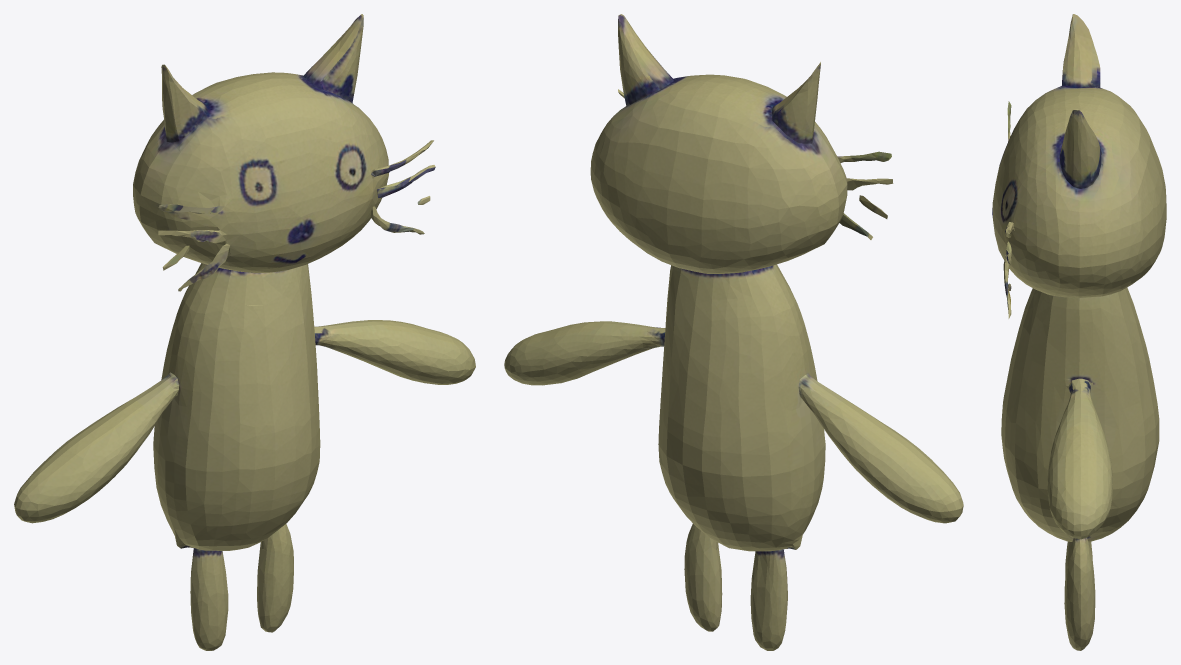
File: cat.glb
The picture shows the model from 3 angles, left to right: view 1: azimuth 30°, elevation 25°; view 2: azimuth 150°, elevation 25°; view 3: azimuth 270°, elevation 25°; orthographic projection. The views are drawn at different scales.
Visible parts, largest first — view 1: geometry_0; view 2: geometry_0; view 3: geometry_0.
Boxes of the visible parts, left/top/right/bottom form: geometry_0: left=14, top=14, right=475, bottom=650; geometry_0: left=504, top=14, right=963, bottom=650; geometry_0: left=992, top=14, right=1166, bottom=650.
Bounding box in the file's own units: 0.7989 × 1 × 0.2694.
Materials: 1 (1 with a texture image).
